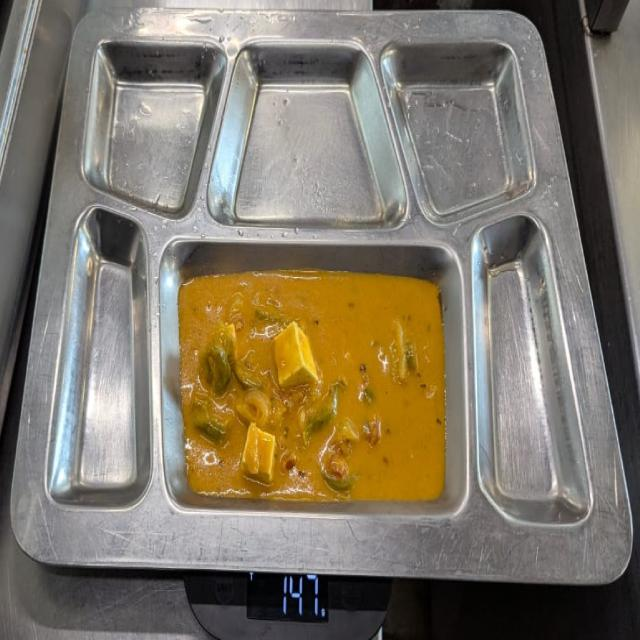Paneer Curry: (188, 278, 441, 502)
